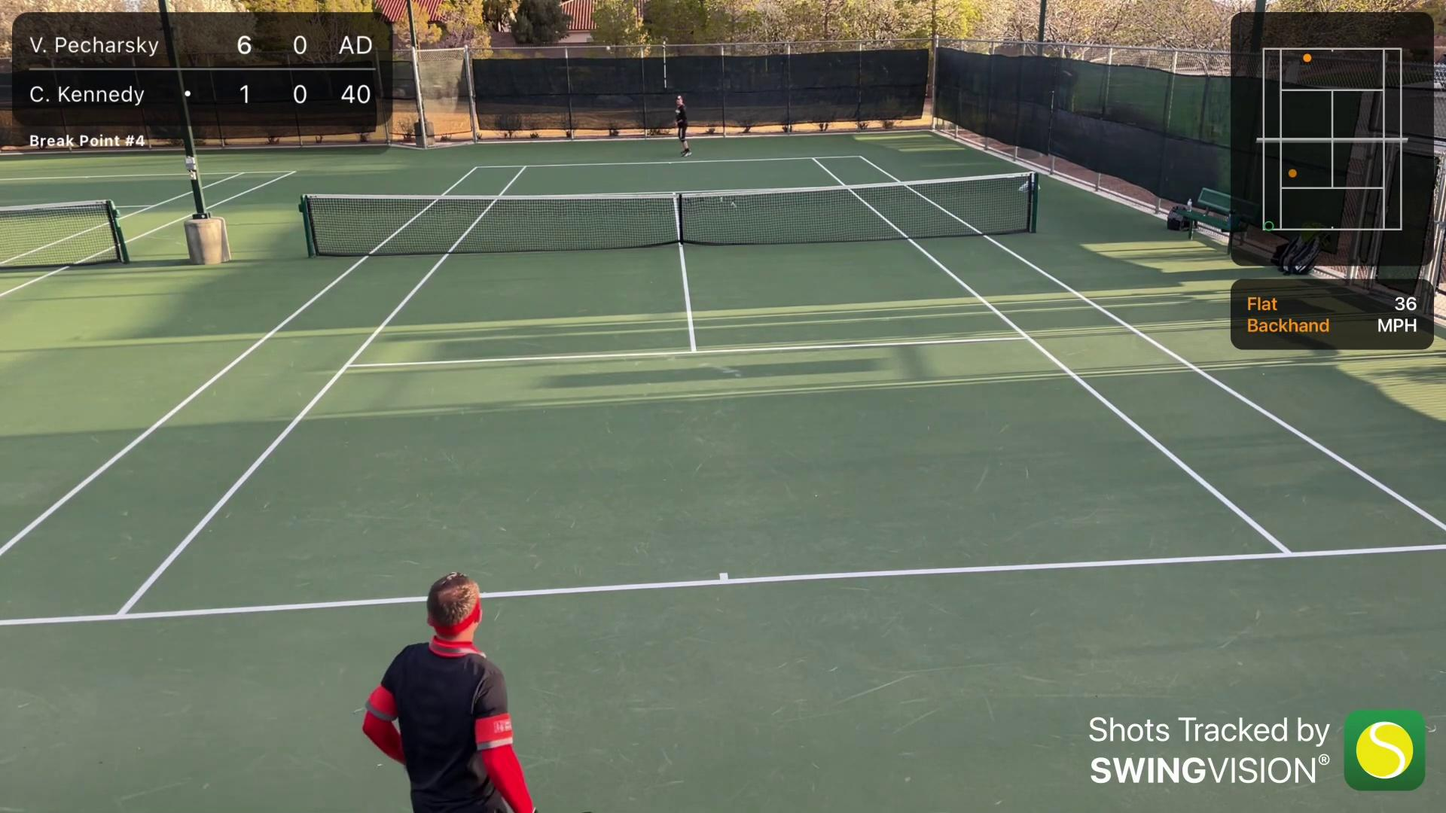ball: (604, 45, 611, 52)
